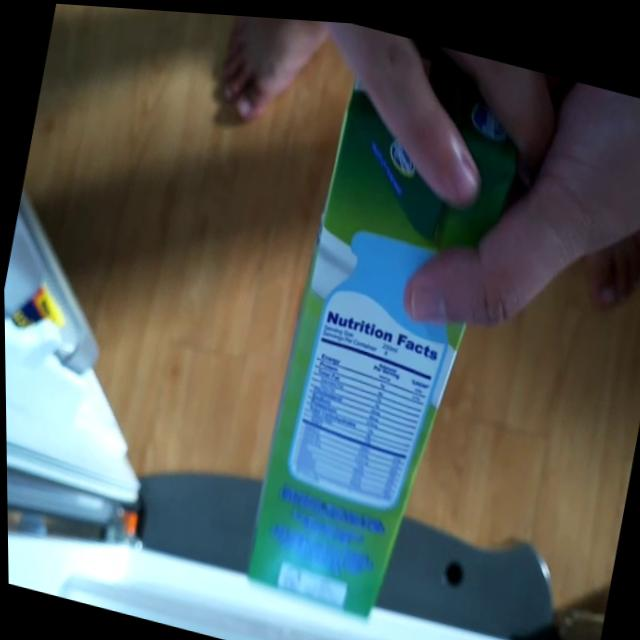milk: (225, 34, 546, 640)
